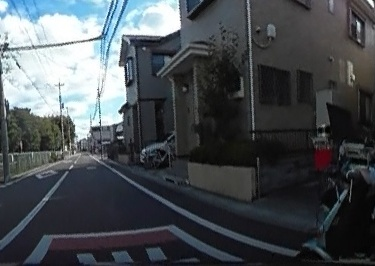person: (333, 54, 375, 253)
